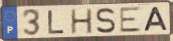3: (22, 8, 42, 38)
A: (142, 6, 169, 32)
E: (119, 6, 144, 34)
H: (69, 8, 94, 35)
L: (47, 9, 66, 35)
S: (95, 7, 117, 35)
